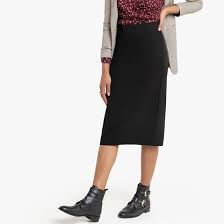F_tailored skirt: (98, 17, 172, 148)
